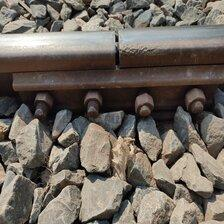railway-gap: (83, 18, 153, 79)
